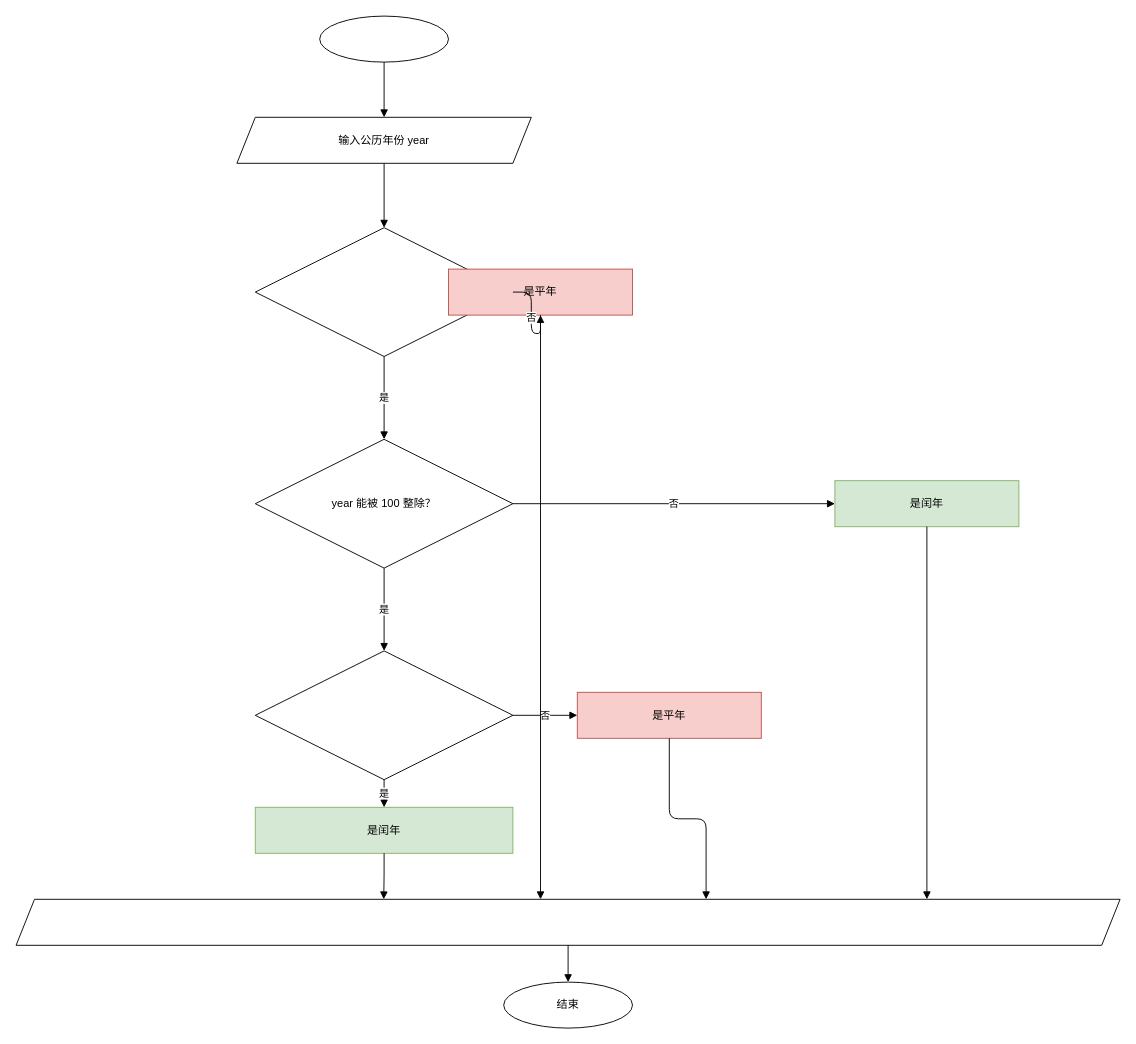
This 1136x1044 diagram has some shape labels left out. The shapes that lost their labels are listed below. From the top down, each one's box as (x1, y1, x2, y2) in pixels, then its label:
(319, 15, 448, 62): 开始
(254, 227, 513, 356): year 能被 4 整除？
(254, 650, 513, 780): year 能被 400 整除？
(15, 898, 1120, 945): 输出判定结果
